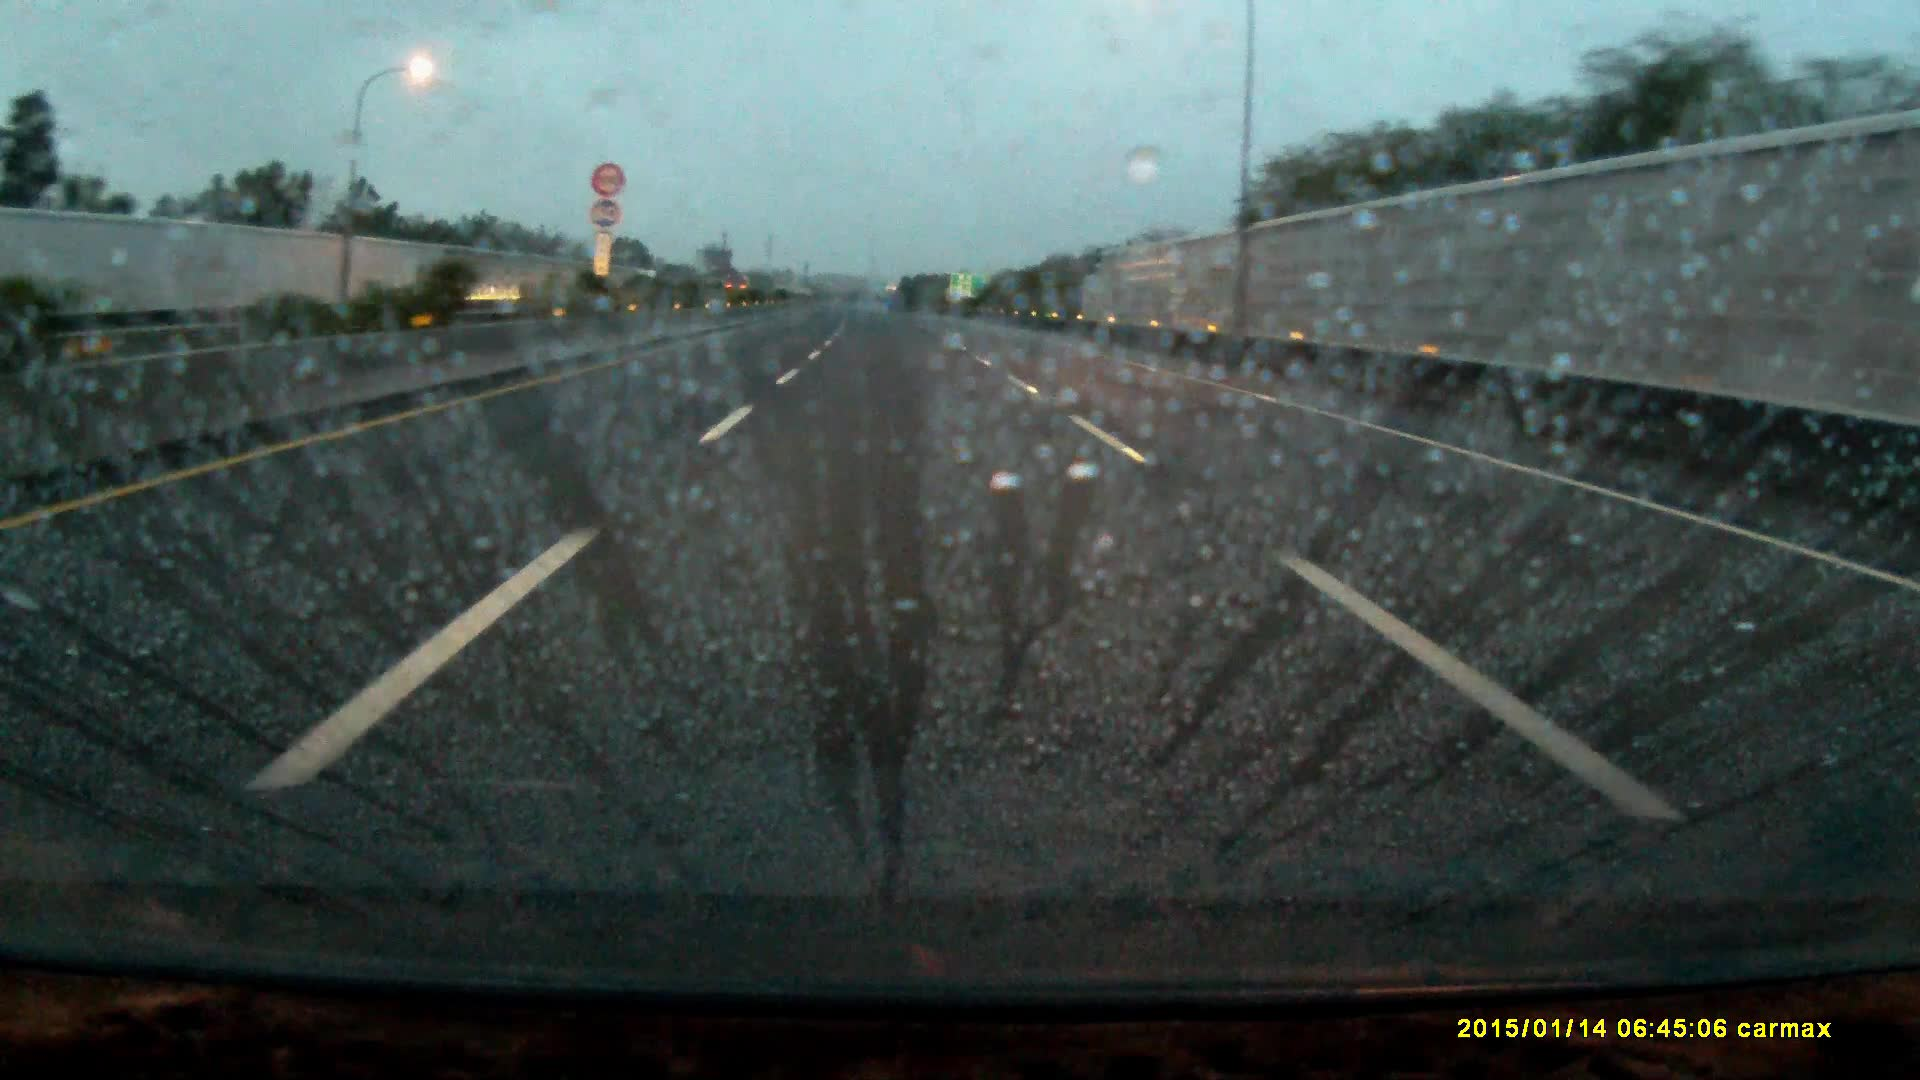vehicle: (727, 281, 754, 309)
